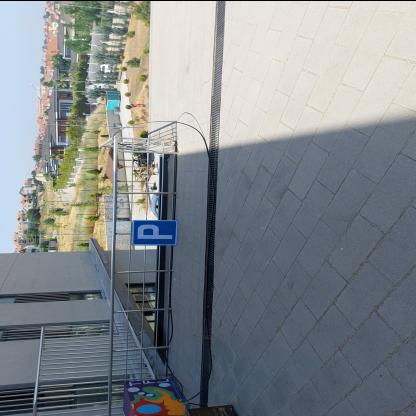Parking-Sign: (132, 219, 179, 246)
